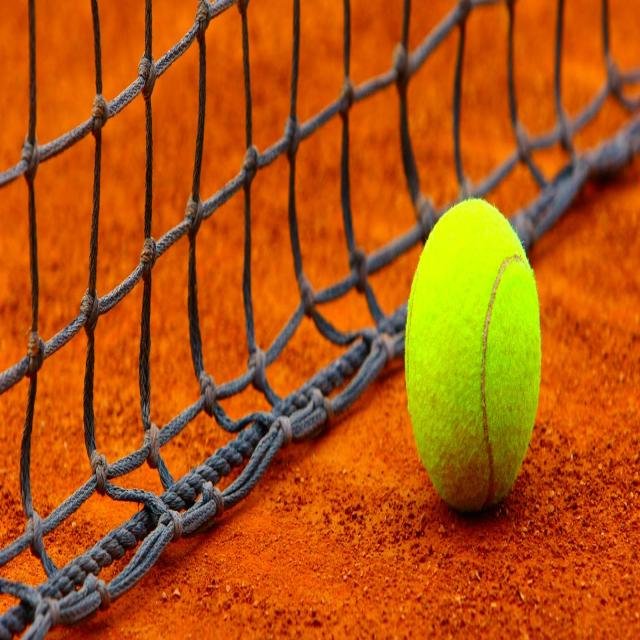Tennis Ball: (406, 201, 540, 514)
